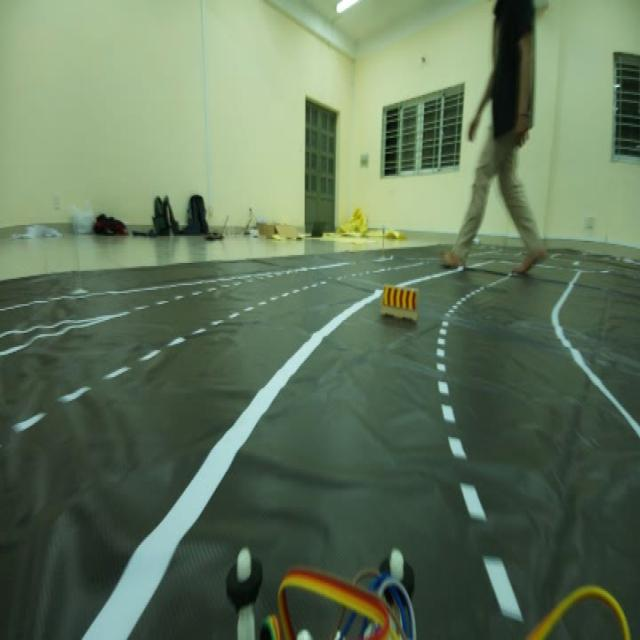roadblock: (372, 280, 423, 326)
